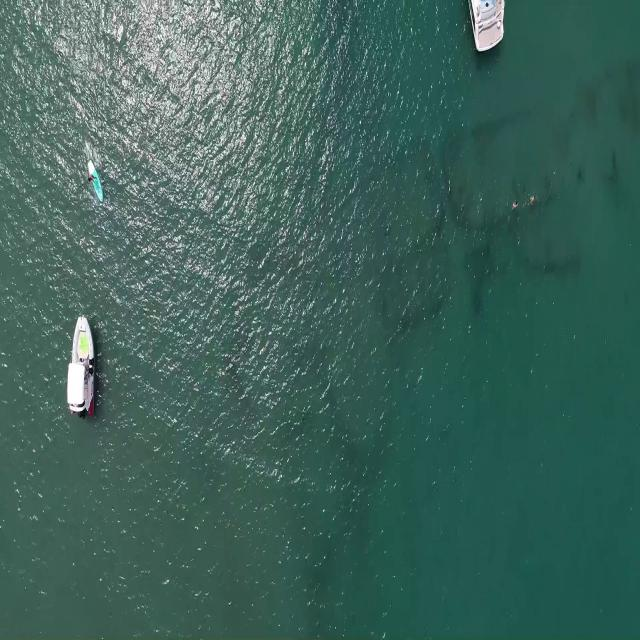boat: (65, 305, 97, 425)
person: (527, 193, 541, 207), (87, 172, 98, 188), (512, 200, 520, 210)
surfboard: (87, 157, 102, 207)
